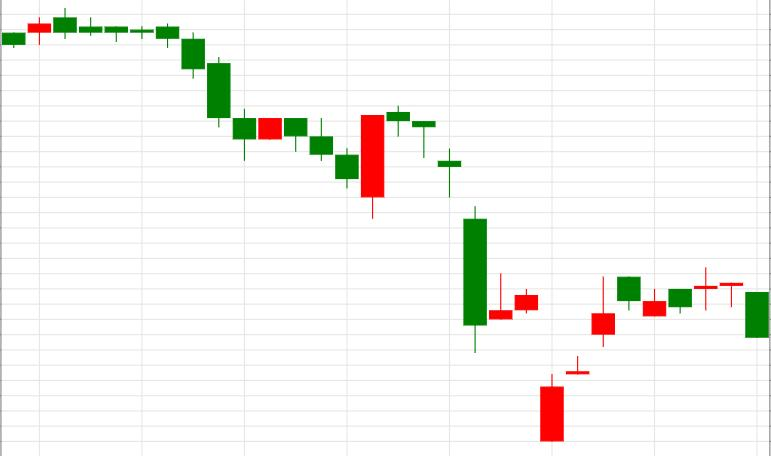bullish_engulfing_rise: (156, 23, 384, 220)
